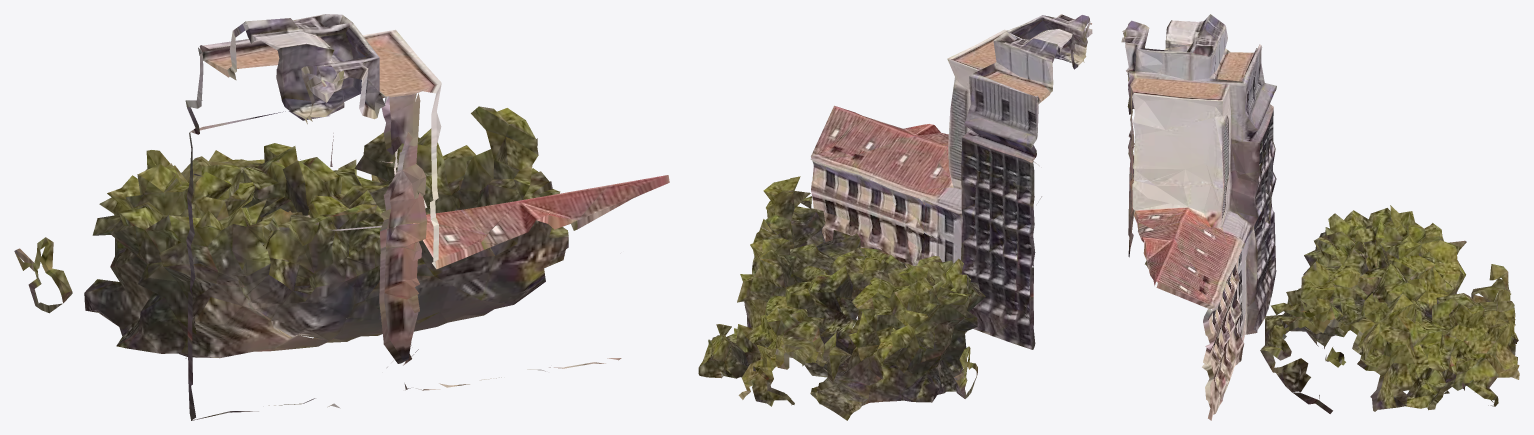
3 views of the same model, side by side, from view 1: azimuth 30°, elevation 25°; view 2: azimuth 150°, elevation 25°; view 3: azimuth 270°, elevation 25° (orthographic). The views are drawn at different scales.
Visible parts, largest first — view 1: Mesh_0; view 2: Mesh_0; view 3: Mesh_0.
Part boxes in pixels (x1,y1,x2,y2): Mesh_0: (14, 14, 669, 420); Mesh_0: (698, 14, 1092, 420); Mesh_0: (1121, 14, 1519, 420).
Bounding box in the file's own units: 32.98 × 32.64 × 40.8.
Materials: 1 (1 with a texture image).
